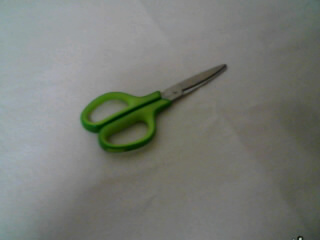003_classes: (80, 57, 232, 160)
